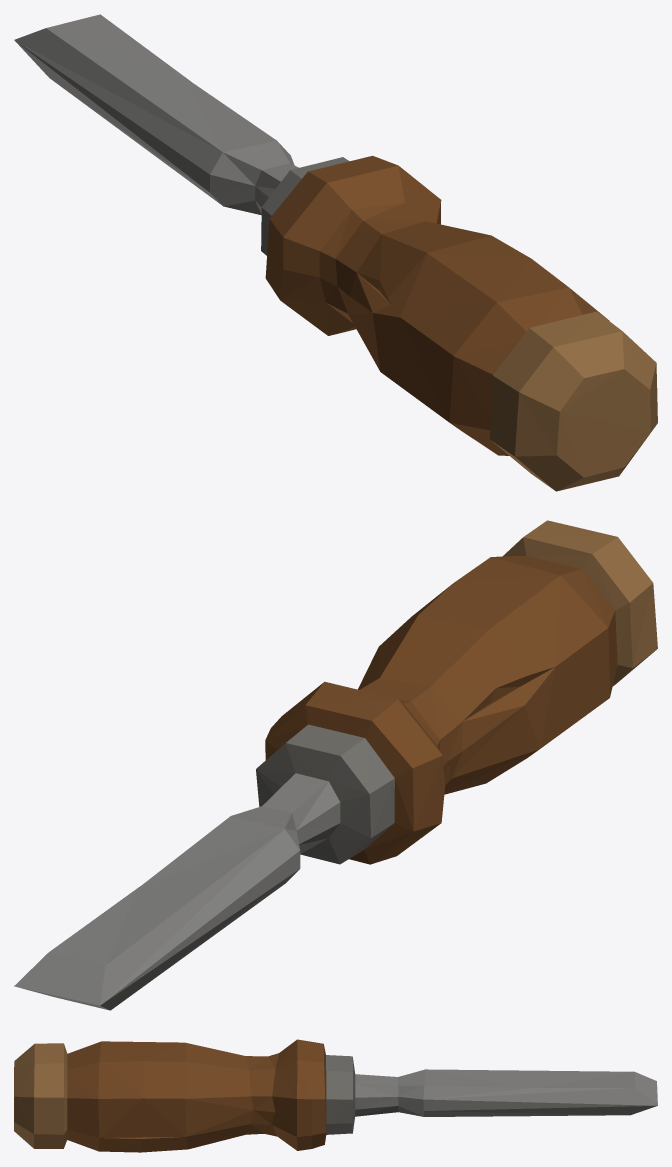
File: WoodworkingChisel_2.fbx
3 views of the same model, one above another, from view 1: azimuth 30°, elevation 25°; view 2: azimuth 150°, elevation 25°; view 3: azimuth 270°, elevation 25° (orthographic). The views are drawn at different scales.
Parts seen in each view (by area): view 1: WoodworkingChisel_2; view 2: WoodworkingChisel_2; view 3: WoodworkingChisel_2.
Boxes of the visible parts, bbox=[...] form: WoodworkingChisel_2: bbox=[14, 14, 657, 491]; WoodworkingChisel_2: bbox=[14, 520, 657, 1010]; WoodworkingChisel_2: bbox=[14, 1039, 657, 1152].
Size of the model in its own units: 0.0449 by 0.2583 by 0.0407.
